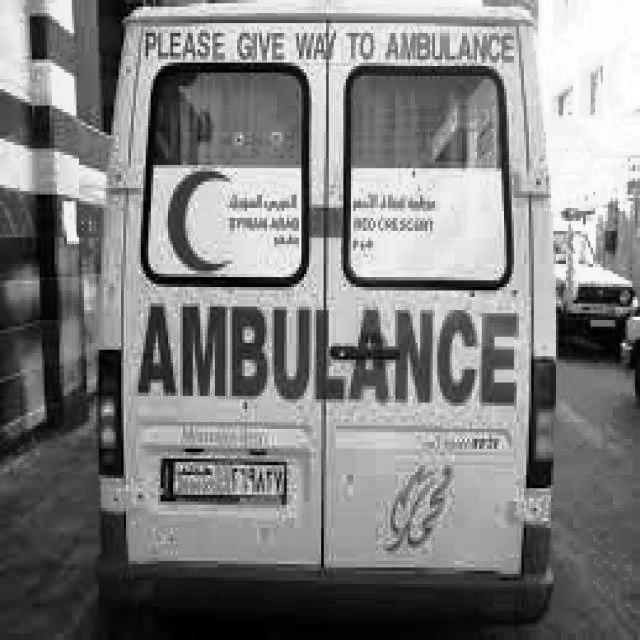LCV: (107, 14, 550, 593)
